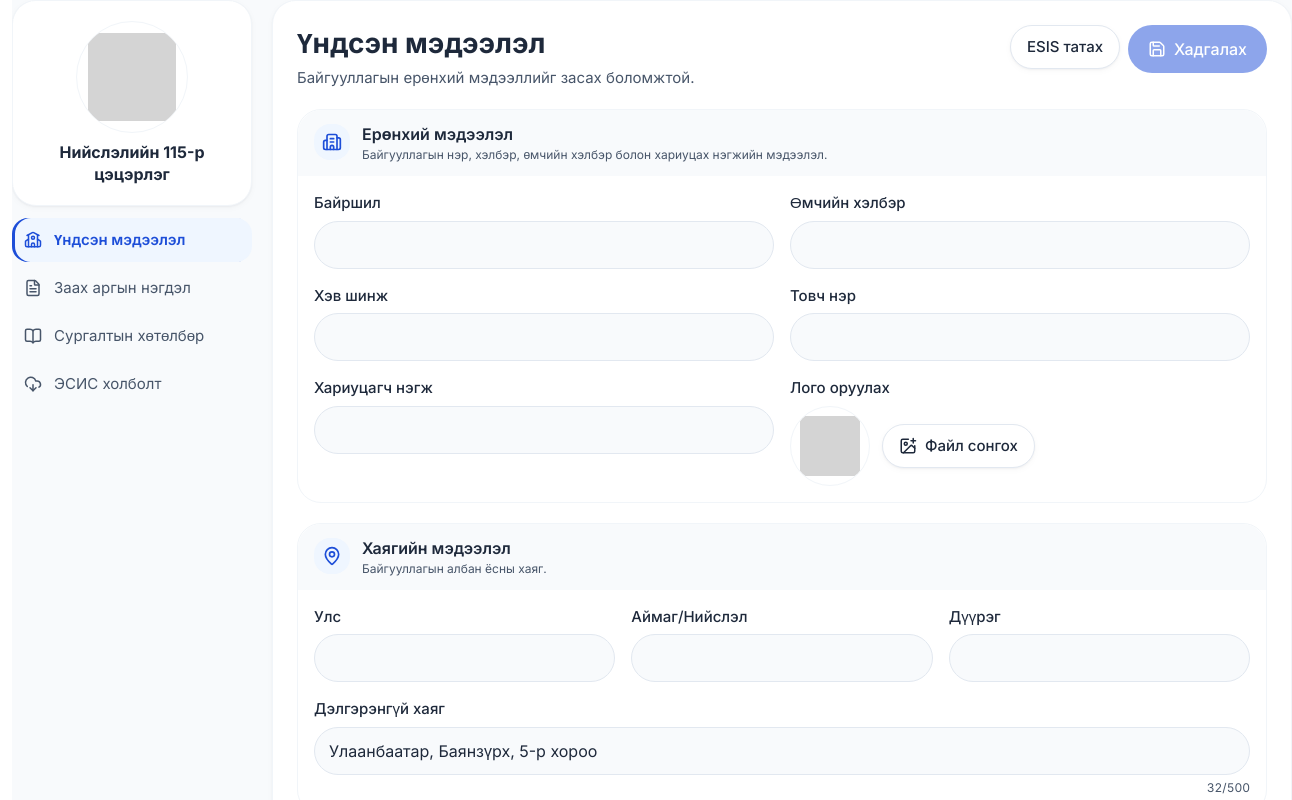
the kindergarten's details › fills the ministry's fields only from a live ESIS answer
Expected: the field labelled "Өмчийн хэлбэр" is empty, [790, 221, 1250, 269]
Click the button "ESIS татах" at (1065, 47), box [1010, 25, 1120, 69]
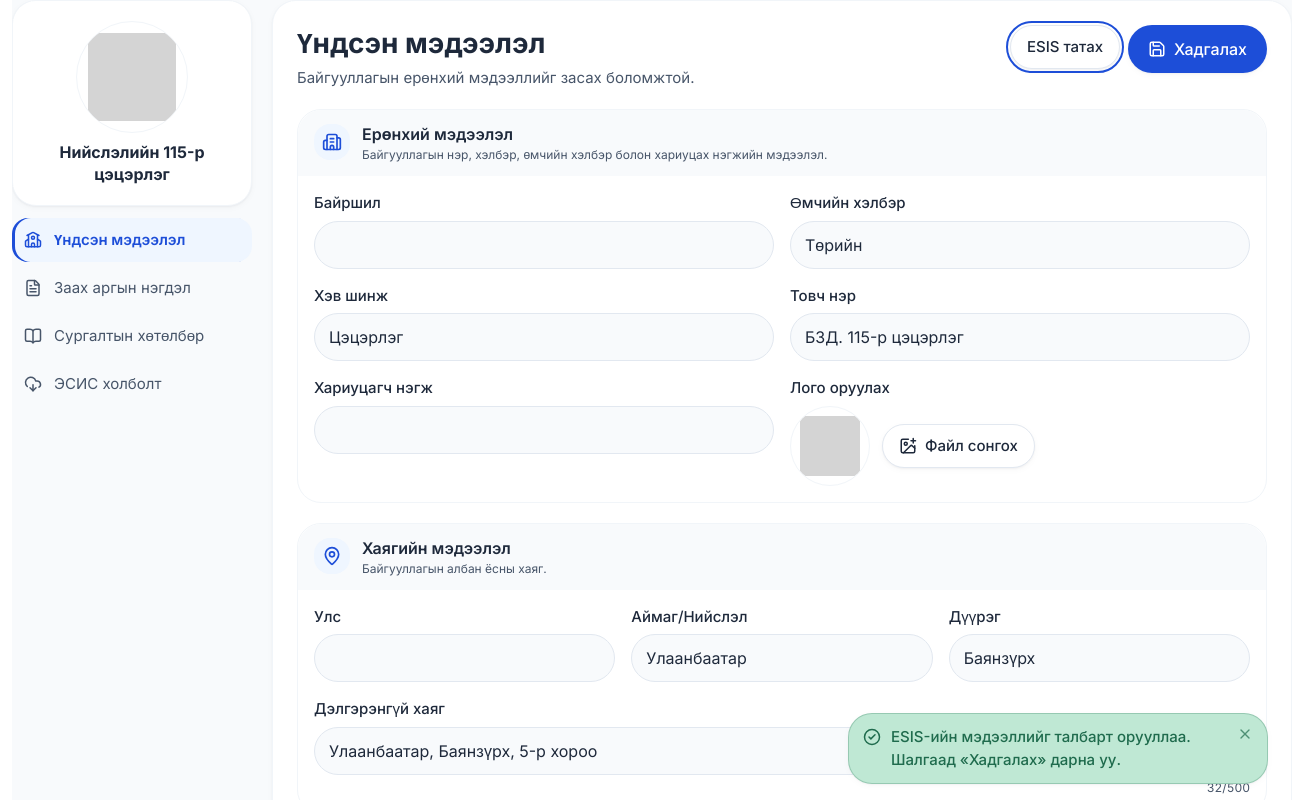
Expected: the field labelled "Өмчийн хэлбэр" holds "Төрийн", [790, 221, 1250, 269]
Expected: the field labelled "Товч нэр" holds "БЗД. 115-р цэцэрлэг", [790, 313, 1250, 361]
Expected: the field labelled "Дүүрэг" holds "Баянзүрх", [949, 634, 1250, 682]
